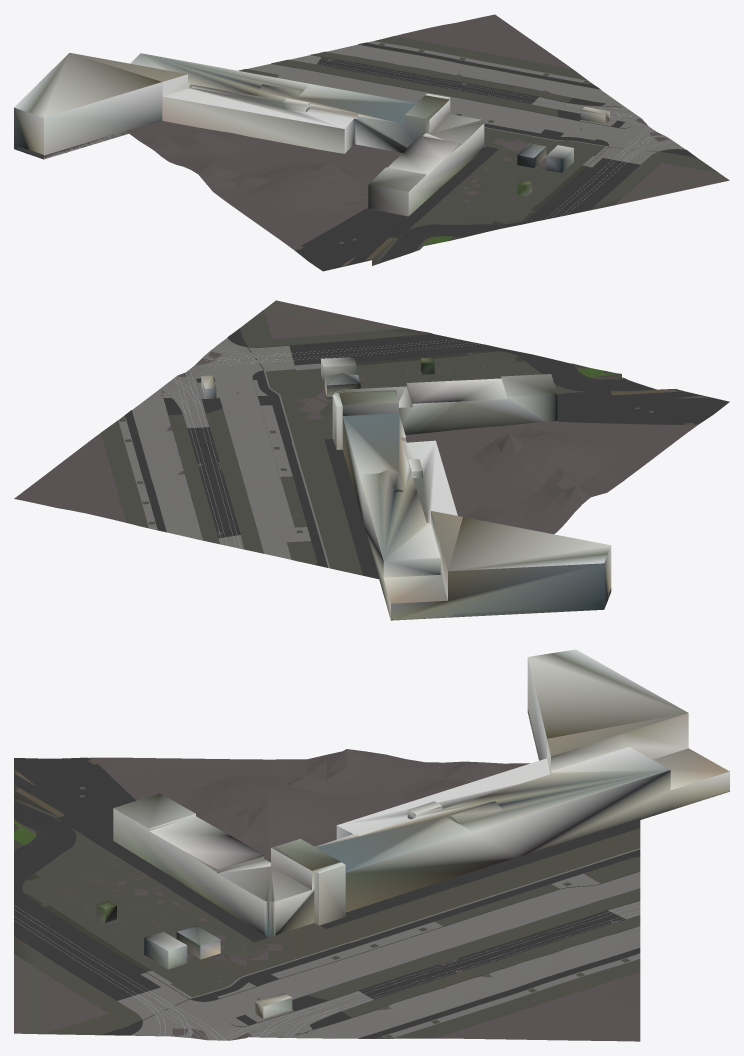
3 views of the same model, one above another, from view 1: azimuth 30°, elevation 25°; view 2: azimuth 150°, elevation 25°; view 3: azimuth 270°, elevation 25° (orthographic). The views are drawn at different scales.
Parts seen in each view (by area): view 1: c_m07_m01; view 2: c_m07_m01; view 3: c_m07_m01.
Boxes of the visible parts, x1,y1,x2,y2 form: c_m07_m01: [14, 14, 729, 271]; c_m07_m01: [14, 300, 729, 620]; c_m07_m01: [14, 649, 729, 1041].
Bounding box in the file's own units: 159 × 14.38 × 146.
